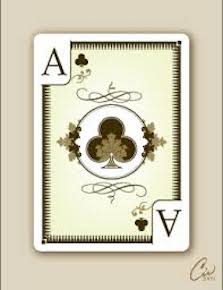AceOfClubs: (24, 22, 204, 262)
